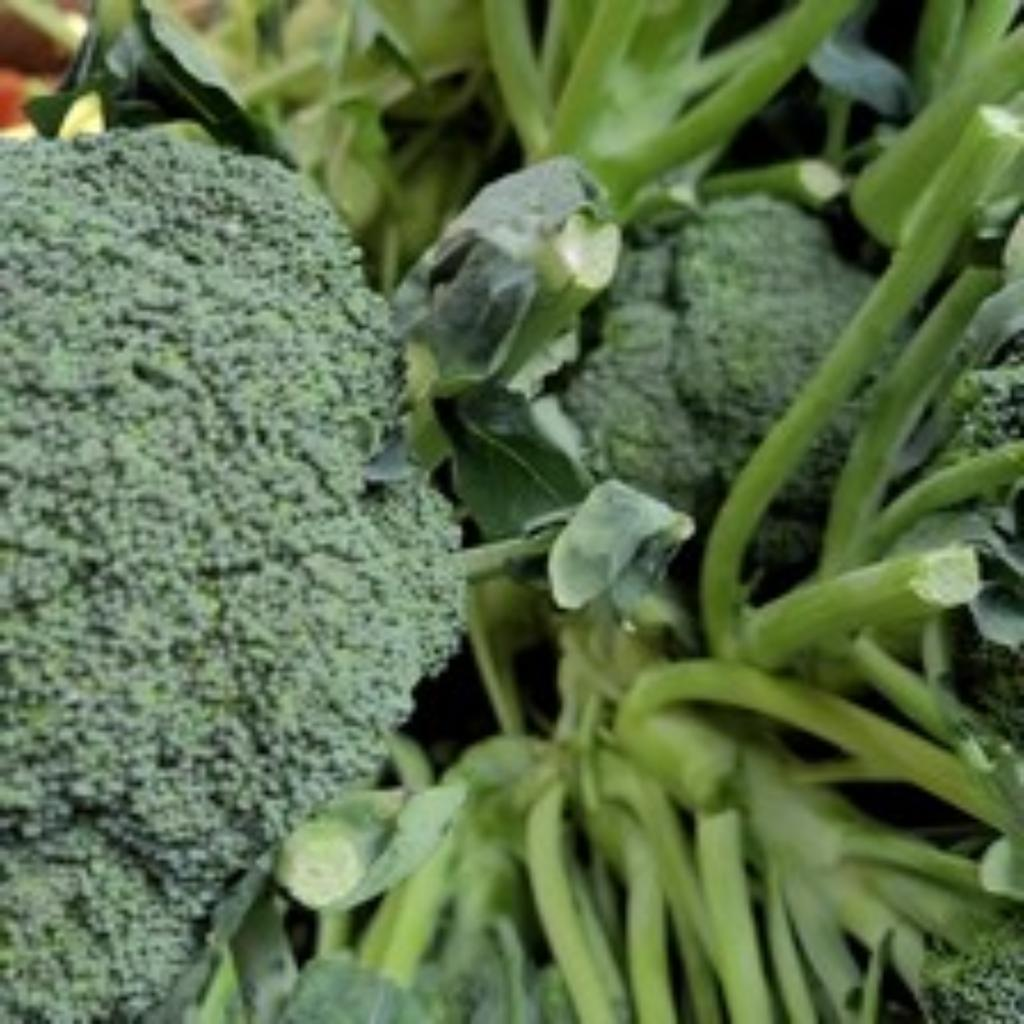Broccoli: (0, 134, 458, 1023), (0, 134, 456, 1023), (562, 196, 870, 517), (564, 196, 870, 513)
